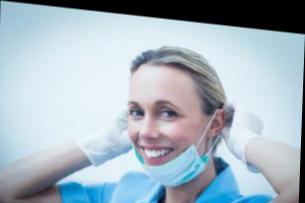WRONG: (126, 76, 206, 187)
